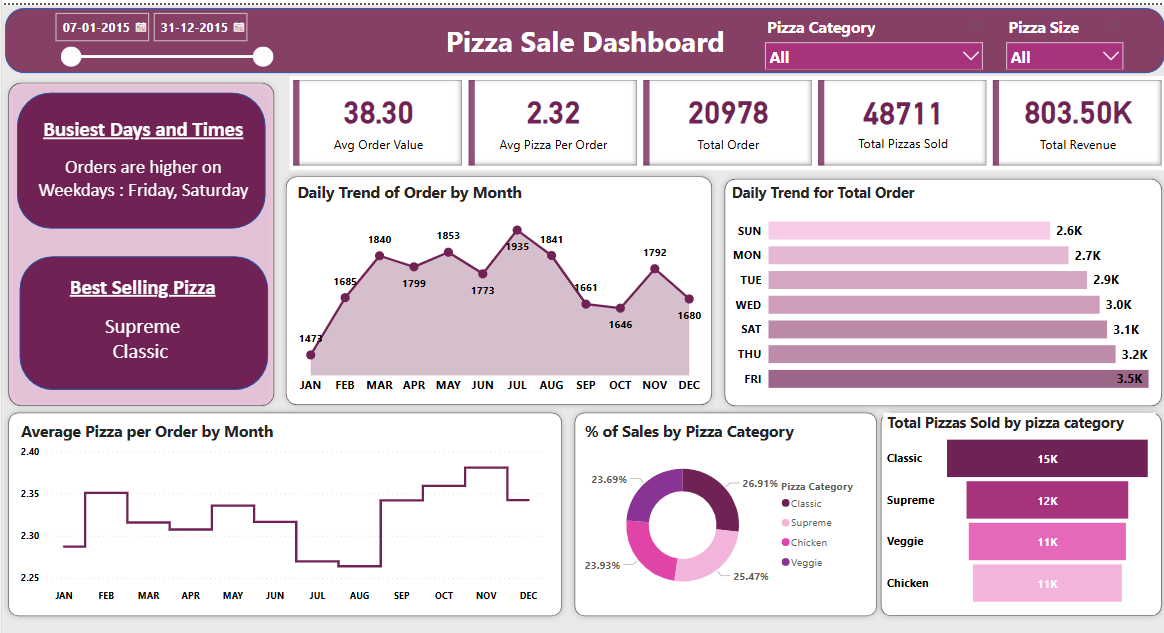

The page's visual inventory and layout, read from the dashboard file:
{"tool":"powerbi","page":{"name":"Page 1","canvas":[1500,820],"ordinal":0},"visuals":[{"type":"cardVisual","fields":{"Data":["pizza_sales.Avg Order Value","pizza_sales.Avg Pizza Per Order","pizza_sales.Total Order","pizza_sales.Total Pizzas Sold","pizza_sales.Total Revenue"]},"box":[369.9,91.7,1130.5,120.6],"z":1000},{"type":"shape","box":[0,0,1500.3,91.7],"z":2000},{"type":"shape","box":[357,212.3,564.4,310.4],"z":3000},{"type":"columnChart","title":"Daily Trend for Total Order ","fields":{"Category":["pizza_sales.Order Day"],"Y":["pizza_sales.Total Order"]},"box":[371.5,221.9,537.1,283],"z":4000},{"type":"shape","box":[921.4,213.9,578.9,310.4],"z":5000},{"type":"areaChart","title":"Daily Trend of Order by Month","fields":{"Category":["pizza_sales.Name of Month"],"Y":["pizza_sales.Total Order"]},"box":[935.9,226.7,548.4,283],"z":6000},{"type":"shape","box":[358.6,516.2,392.4,278.2],"z":7000},{"type":"shape","box":[0,91.7,358.6,702.7],"z":7500},{"type":"donutChart","title":"% of Sales by Pizza Category","fields":{"Y":["pizza_sales.Total Revenue"],"Category":["pizza_sales.pizza_category"]},"box":[369.9,533.9,371.5,244.4],"z":8000},{"type":"shape","box":[1122.4,516.2,377.9,278.2],"z":9000},{"type":"shape","box":[741.3,516.2,392.4,278.2],"z":10000},{"type":"donutChart","title":"% of Sales by Pizza Size","fields":{"Y":["pizza_sales.Total Revenue"],"Category":["pizza_sales.pizza_size"]},"box":[749.4,533.9,371.5,244.4],"z":11000},{"type":"funnel","title":"Total Pizzas Sold by pizza category","fields":{"Category":["pizza_sales.pizza_category"],"Y":["pizza_sales.Total Pizzas Sold"]},"box":[1133.7,524.2,350.6,254.1],"z":12000},{"type":"textbox","box":[38.6,241.2,283,168.8],"z":13000},{"type":"slicer","fields":{"Values":["pizza_sales.pizza_category"]},"box":[1008.3,9.6,300.7,74],"z":13001},{"type":"slicer","fields":{"Values":["pizza_sales.order_date"]},"box":[180.1,0,300.7,83.6],"z":13002}]}

Visuals, with their boxes in screenshot pixels (x1, y1, x2, y2), scaled from the page's 1500x820 canvas onto the 1164x633 screenshot:
cardVisual - pizza_sales.Avg Order Value x pizza_sales.Avg Pizza Per Order: <region>287, 71, 1163, 164</region>
shape: <region>0, 0, 1163, 71</region>
shape: <region>277, 164, 715, 403</region>
"Daily Trend for Total Order " columnChart: <region>288, 171, 705, 390</region>
shape: <region>715, 165, 1163, 405</region>
"Daily Trend of Order by Month" areaChart: <region>726, 175, 1152, 393</region>
shape: <region>278, 398, 583, 613</region>
shape: <region>0, 71, 278, 613</region>
"% of Sales by Pizza Category" donutChart: <region>287, 412, 575, 601</region>
shape: <region>871, 398, 1163, 613</region>
shape: <region>575, 398, 880, 613</region>
"% of Sales by Pizza Size" donutChart: <region>582, 412, 870, 601</region>
"Total Pizzas Sold by pizza category" funnel: <region>880, 405, 1152, 601</region>
textbox: <region>30, 186, 250, 316</region>
slicer - pizza_sales.pizza_category: <region>782, 7, 1016, 65</region>
slicer - pizza_sales.order_date: <region>140, 0, 373, 65</region>
